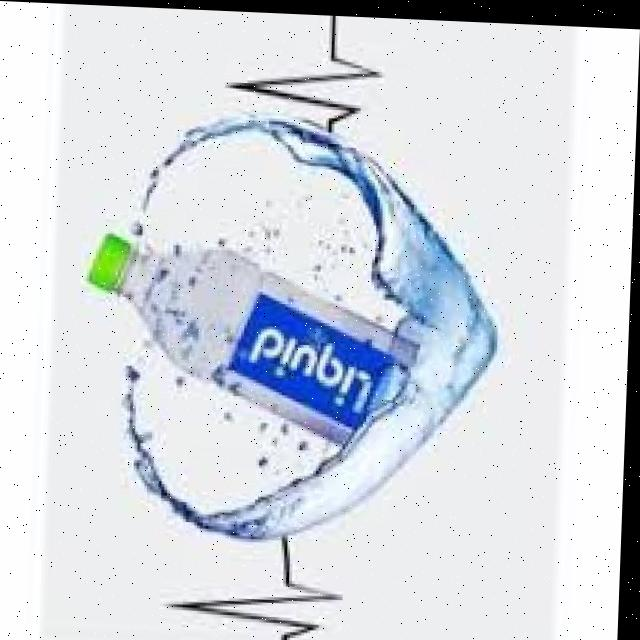bottle: (63, 216, 416, 457)
